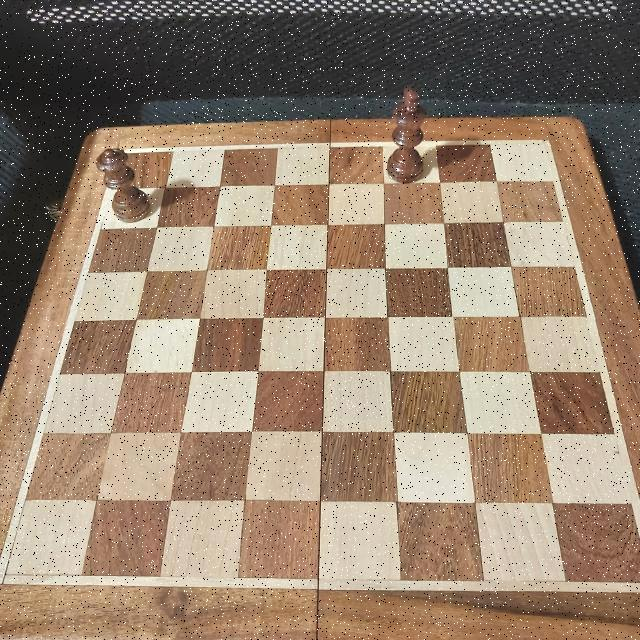black-king: (373, 71, 446, 182)
black-queen: (89, 144, 156, 222)
